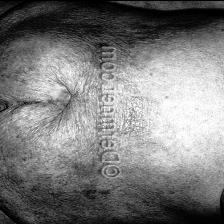Potentially Malignant Skin Tumors: (12, 42, 46, 68), (83, 182, 121, 204), (127, 98, 156, 116)
